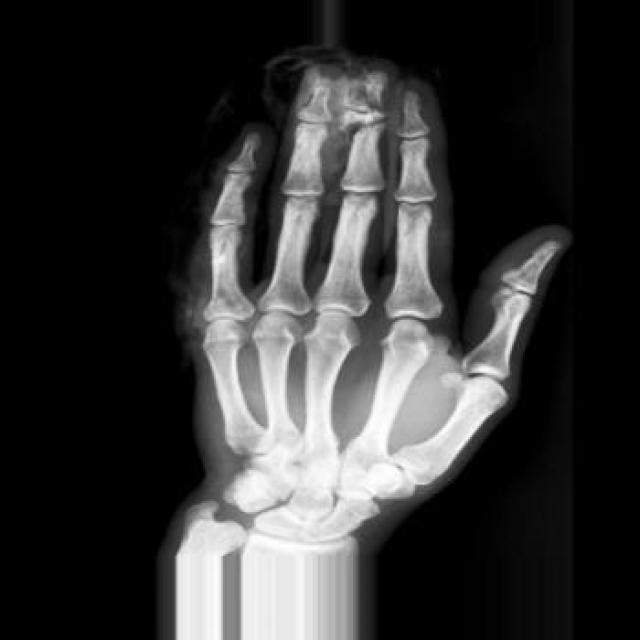Fracture: (344, 84, 394, 118)
